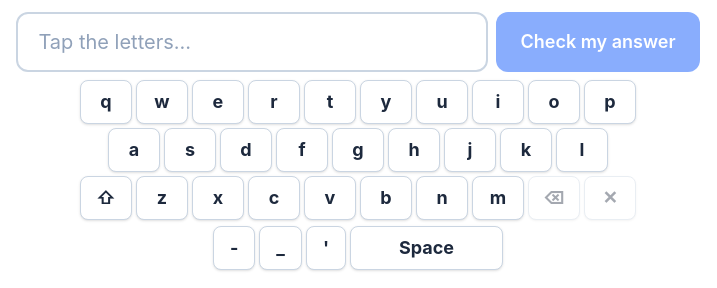
Test: SpellingInput (OnScreenKeyboard) › clicking letter buttons appends lowercase by default
Step 1. Click the button "l" → {"x": 582, "y": 150}, box [556,128,608,172]
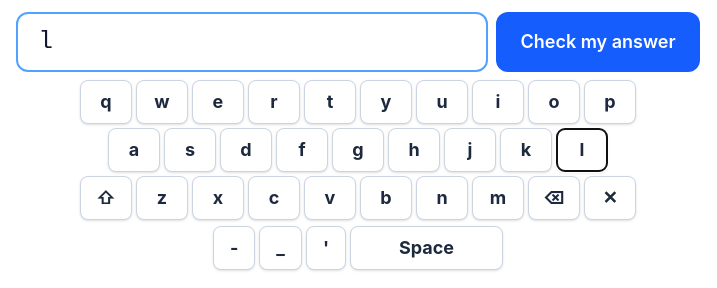
Step 2. Click the button "i" → {"x": 498, "y": 102}, box [472,80,524,124]
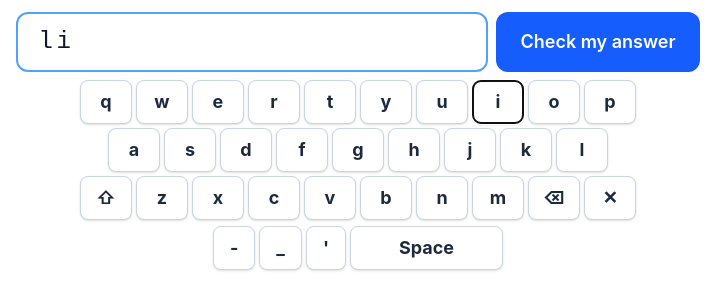
Step 3. Click the button "g" → {"x": 358, "y": 150}, box [332,128,384,172]
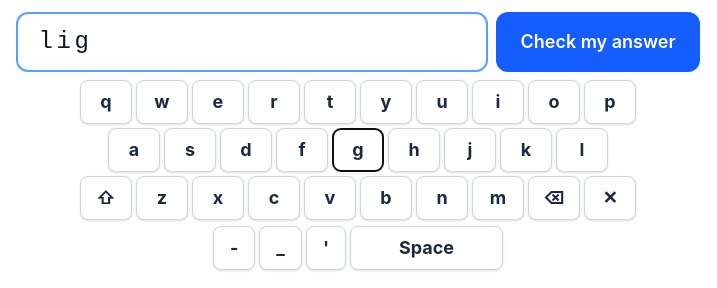
Expected: the message reads "lig", [38,28,92,55]
